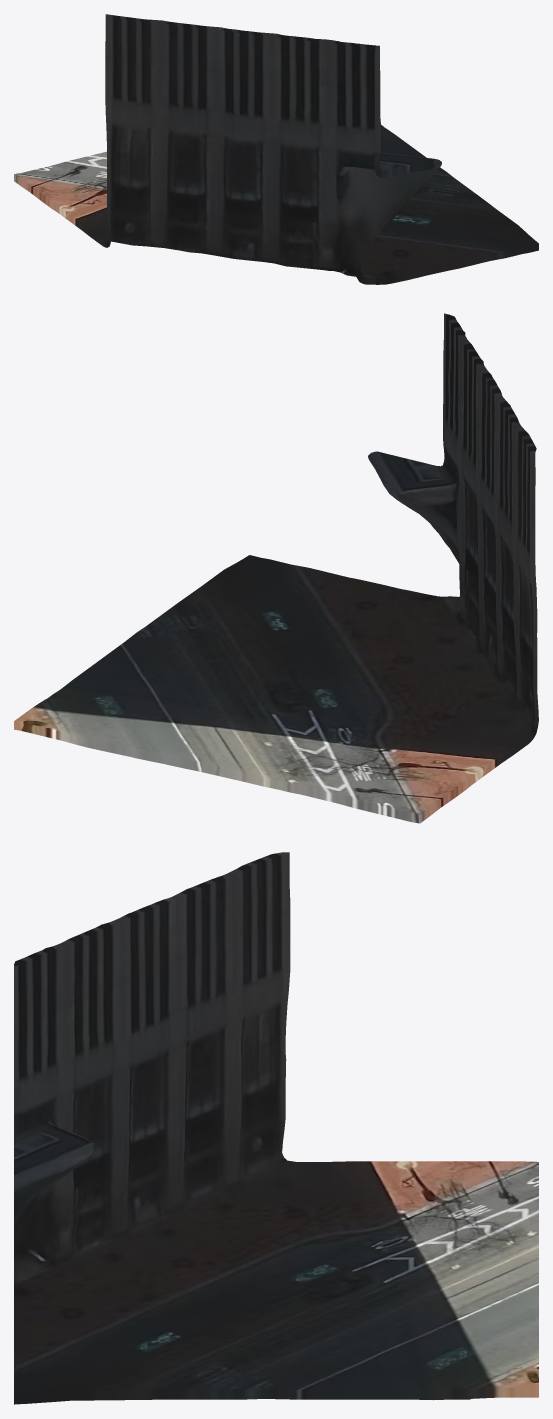
Rendered from z20-167773-405238-h0-yup-uvflip-v3-world.glb.
3 views of the same model, one above another, from view 1: azimuth 30°, elevation 25°; view 2: azimuth 150°, elevation 25°; view 3: azimuth 270°, elevation 25° (orthographic). The views are drawn at different scales.
Size of the model in its own units: 30.16 by 21.12 by 30.32.
Materials: 1 (1 with a texture image).
